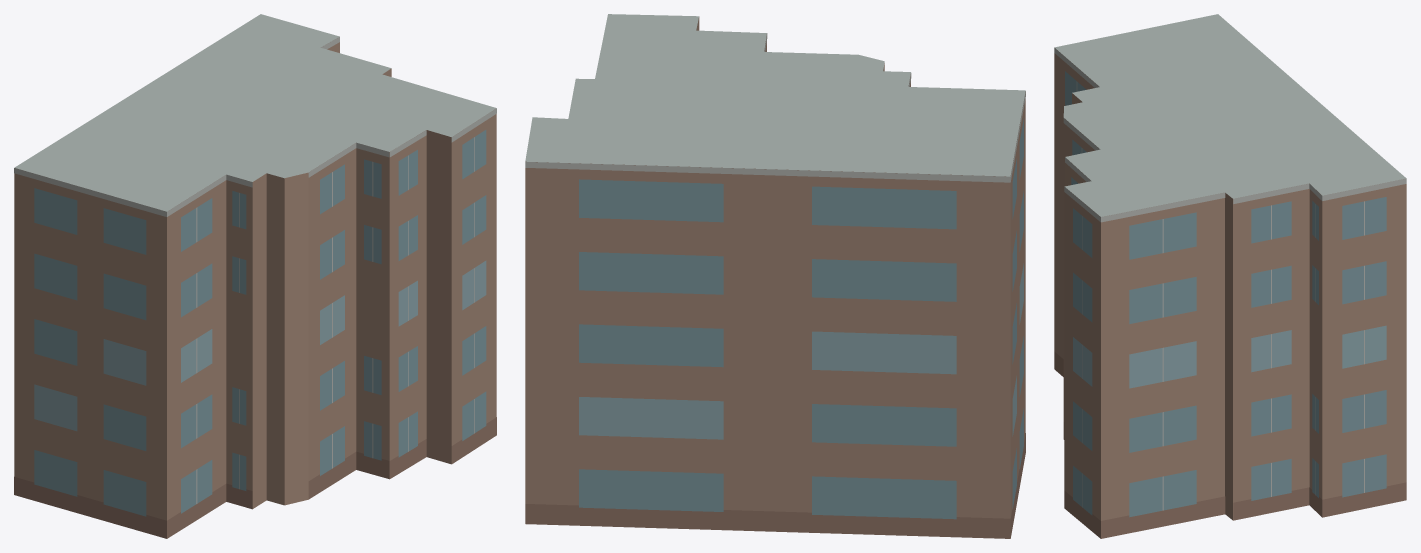
File: survey-upis-32461410.glb
The picture shows the model from 3 angles, left to right: view 1: azimuth 30°, elevation 25°; view 2: azimuth 150°, elevation 25°; view 3: azimuth 270°, elevation 25°; orthographic projection. The views are drawn at different scales.
Visible parts, largest first — view 1: survey-upis-32461410.tmp; view 2: survey-upis-32461410.tmp; view 3: survey-upis-32461410.tmp.
Part boxes in pixels (x1,y1,x2,y2): survey-upis-32461410.tmp: [14, 14, 496, 538]; survey-upis-32461410.tmp: [525, 14, 1025, 538]; survey-upis-32461410.tmp: [1054, 14, 1406, 538].
Size of the model in its own units: 19.63 by 14.5 by 14.39.
